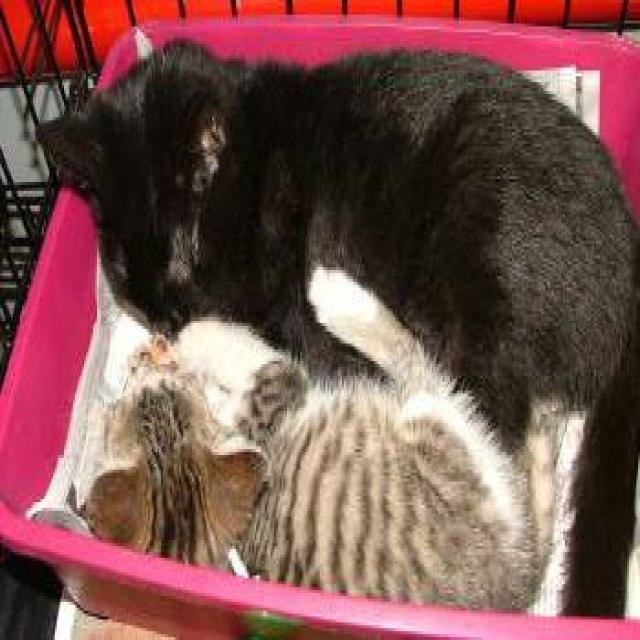cat: (44, 35, 638, 617)
